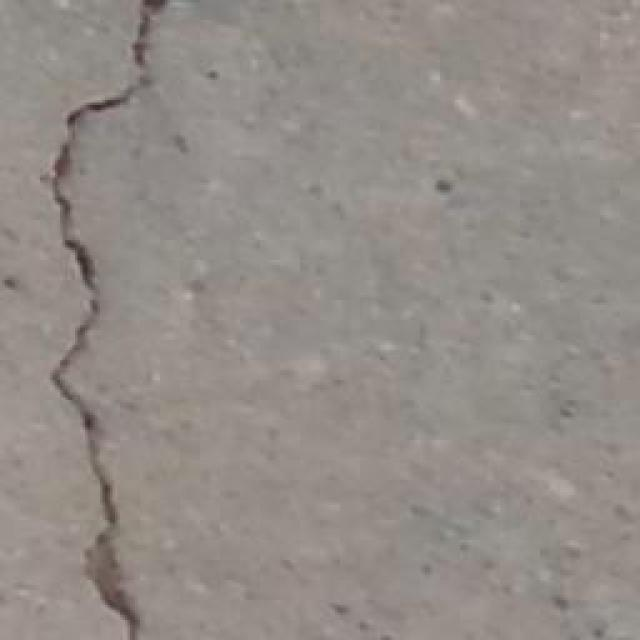concrete-crack: (50, 142, 140, 640), (62, 0, 170, 132)
